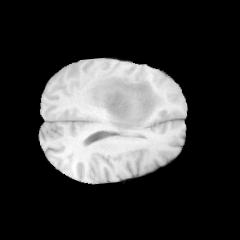glioma: (87, 75, 164, 131)
